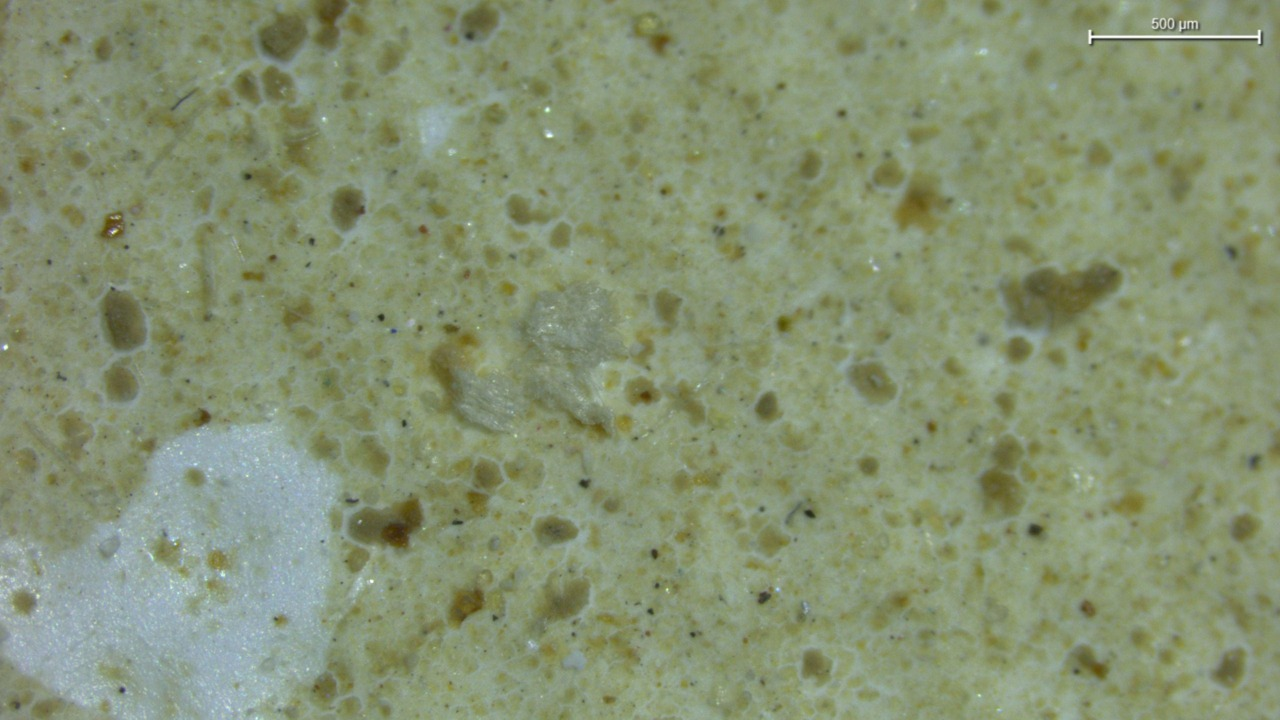microplastic_fragment: (447, 283, 623, 430), (435, 352, 524, 432)
